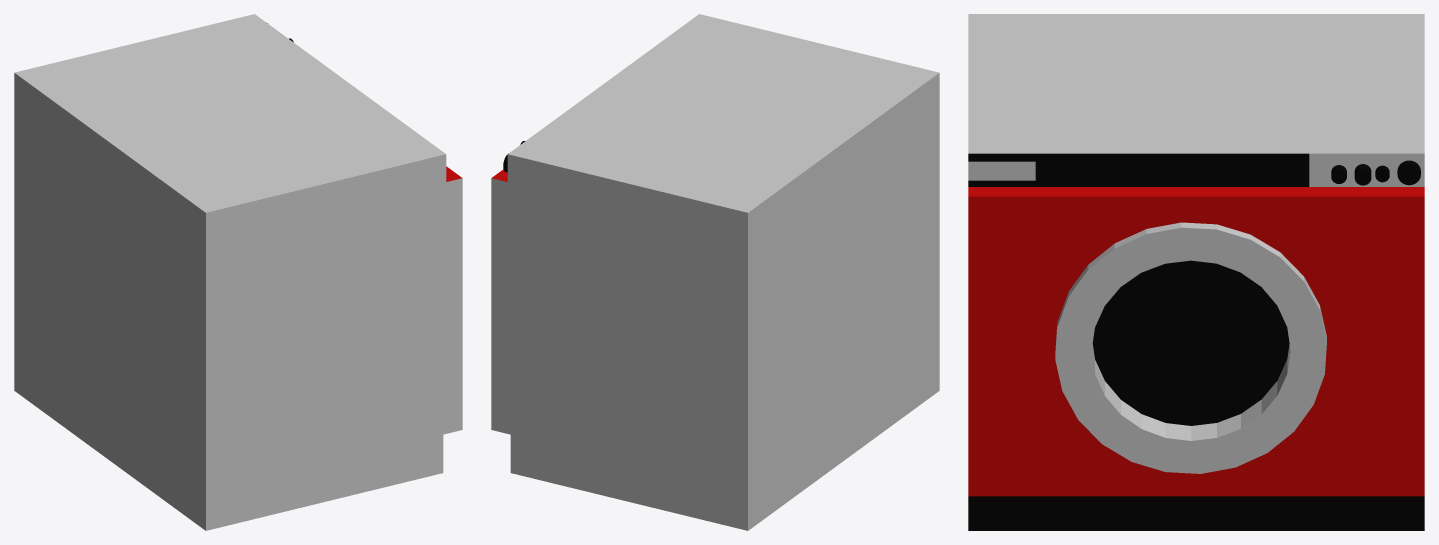
3 renders of one model, left to right at view 1: azimuth 30°, elevation 25°; view 2: azimuth 150°, elevation 25°; view 3: azimuth 270°, elevation 25°, orthographic. The views are drawn at different scales.
Visible parts, largest first — view 1: mesh1_mesh1-geometry; view 2: mesh1_mesh1-geometry; view 3: mesh1_mesh1-geometry.
Part boxes in pixels (box(x1,y1,x2,y2)): mesh1_mesh1-geometry: box(14, 14, 462, 530); mesh1_mesh1-geometry: box(491, 14, 939, 530); mesh1_mesh1-geometry: box(968, 14, 1424, 530).
Bounding box in the file's own units: 0.5084 × 0.5817 × 0.635.
